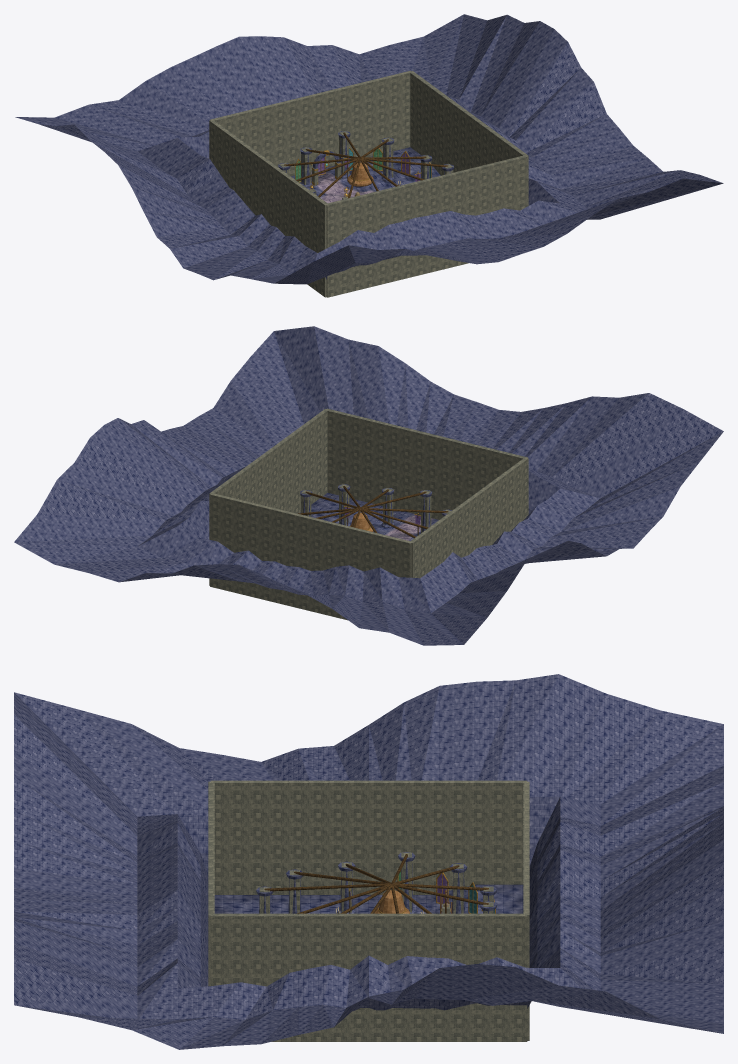
The model's file is StillBelfry-aae050d84aef.glb.
The picture shows the model from 3 angles, top to bottom: view 1: azimuth 30°, elevation 25°; view 2: azimuth 150°, elevation 25°; view 3: azimuth 270°, elevation 25°; orthographic projection. The views are drawn at different scales.
Parts seen in each view (by area): view 1: Rim, C_Solids, Set, Terrain; view 2: Rim, C_Solids, Set, Terrain; view 3: Rim, C_Solids, Set, Terrain.
Part boxes in pixels (left/top/right/bottom): Rim: left=15, top=14, right=723, bottom=284; C_Solids: left=209, top=70, right=528, bottom=297; Set: left=278, top=131, right=454, bottom=199; Terrain: left=291, top=147, right=440, bottom=203; Rim: left=14, top=326, right=723, bottom=645; C_Solids: left=209, top=408, right=528, bottom=620; Set: left=298, top=484, right=451, bottom=538; Terrain: left=300, top=492, right=438, bottom=540; Rim: left=14, top=674, right=723, bottom=1049; C_Solids: left=208, top=780, right=529, bottom=1041; Set: left=256, top=852, right=497, bottom=913; Terrain: left=214, top=884, right=523, bottom=913.
Size of the model in its own units: 92 by 22.93 by 92.
Materials: 13 (13 with a texture image).
